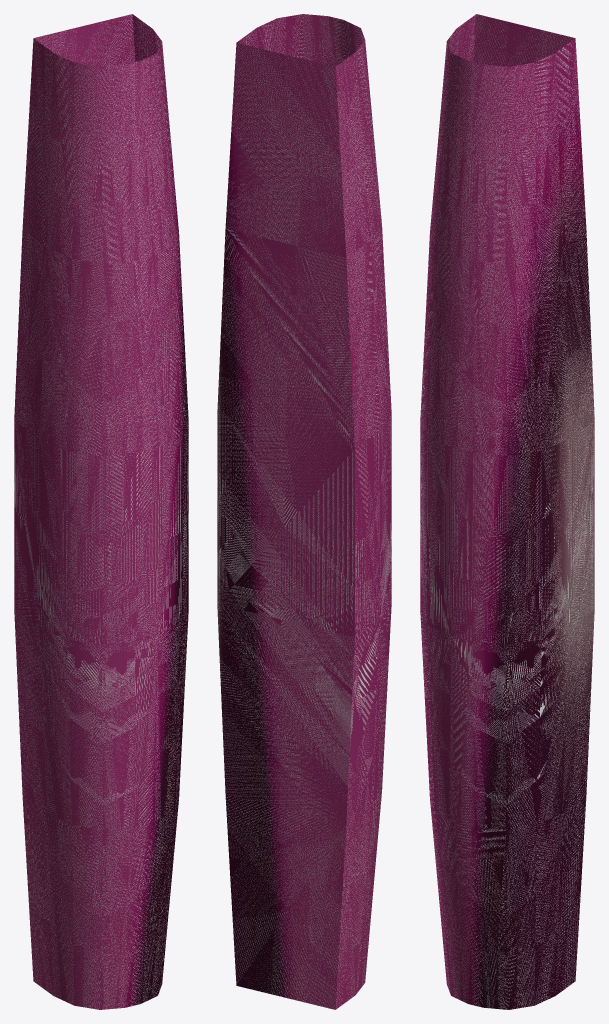
The model's file is original-41.obj.
The picture shows the model from 3 angles, left to right: view 1: azimuth 30°, elevation 25°; view 2: azimuth 150°, elevation 25°; view 3: azimuth 330°, elevation 25°; orthographic projection.
Visible parts, largest first — view 1: _7026_2_1/_7026_2/mesh26/mesh26-geometry#mesh26-geometry; view 2: _7026_2_1/_7026_2/mesh26/mesh26-geometry#mesh26-geometry; view 3: _7026_2_1/_7026_2/mesh26/mesh26-geometry#mesh26-geometry.
Part boxes in pixels (left/top/right/bottom): _7026_2_1/_7026_2/mesh26/mesh26-geometry#mesh26-geometry: left=14, top=14, right=188, bottom=1009; _7026_2_1/_7026_2/mesh26/mesh26-geometry#mesh26-geometry: left=217, top=14, right=391, bottom=1009; _7026_2_1/_7026_2/mesh26/mesh26-geometry#mesh26-geometry: left=420, top=14, right=594, bottom=1009.
Bounding box in the file's own units: 0.0287 × 0.1883 × 0.0231.
